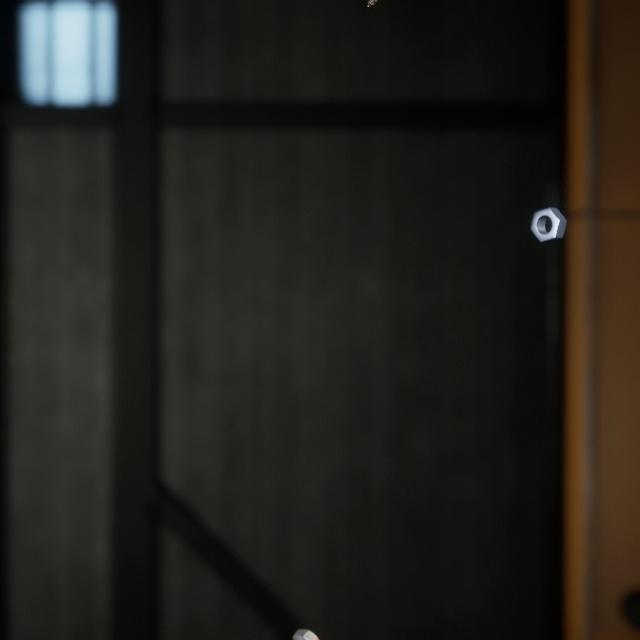bolt: (274, 600, 326, 640)
nut: (526, 187, 571, 231)
